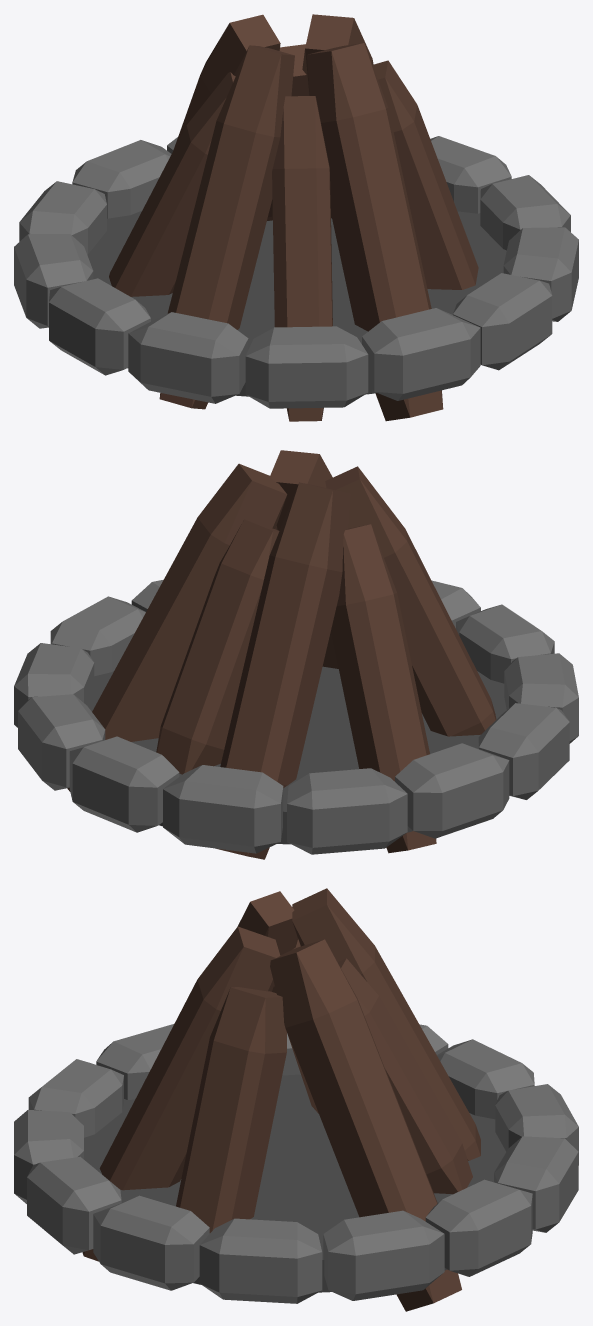
Rendered from campfire.obj.
3 views of the same model, one above another, from view 1: azimuth 30°, elevation 25°; view 2: azimuth 150°, elevation 25°; view 3: azimuth 270°, elevation 25° (orthographic).
Visible parts, largest first — view 1: Cube.002, Cube, Circle; view 2: Cube.002, Cube, Circle; view 3: Cube.002, Cube, Circle.
Part boxes in pixels (left/top/right/bottom): Cube.002: left=109, top=14, right=478, bottom=421; Cube: left=14, top=136, right=578, bottom=408; Circle: left=87, top=211, right=506, bottom=396; Cube.002: left=67, top=450, right=496, bottom=859; Cube: left=14, top=579, right=578, bottom=854; Circle: left=87, top=666, right=506, bottom=844; Cube.002: left=82, top=888, right=480, bottom=1311; Cube: left=14, top=1024, right=578, bottom=1303; Circle: left=84, top=1074, right=505, bottom=1292.
Bounding box in the file's own units: 1.44 × 0.9455 × 1.43.
